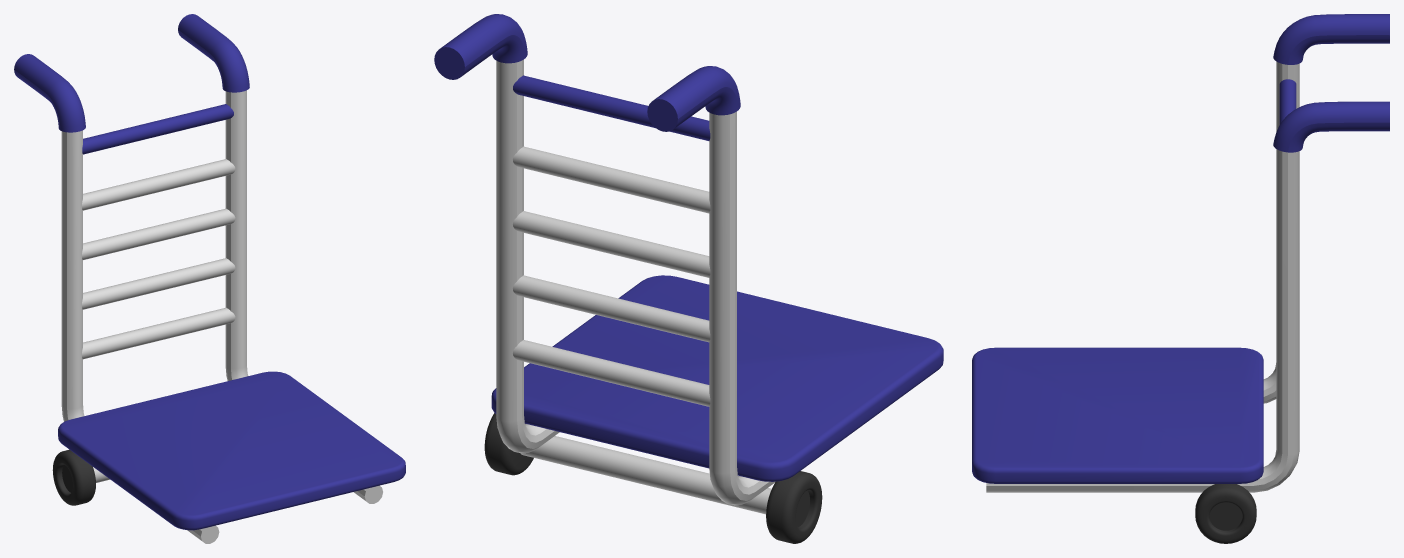
Rendered from elArabasi.fbx.
The picture shows the model from 3 angles, left to right: view 1: azimuth 30°, elevation 25°; view 2: azimuth 150°, elevation 25°; view 3: azimuth 270°, elevation 25°; orthographic projection. The views are drawn at different scales.
Parts seen in each view (by area): view 1: elArabasi; view 2: elArabasi; view 3: elArabasi.
Part boxes in pixels (left/top/right/bottom): elArabasi: left=14, top=14, right=405, bottom=543; elArabasi: left=434, top=14, right=943, bottom=543; elArabasi: left=972, top=14, right=1389, bottom=543.
Bounding box in the file's own units: 205 × 321 × 287.
